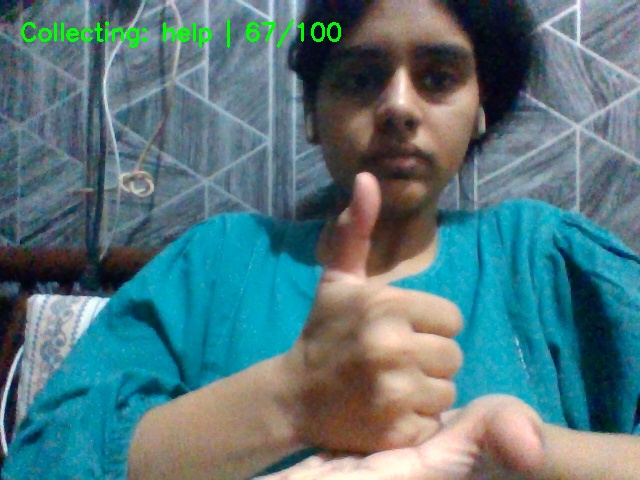help: (251, 168, 595, 480)
